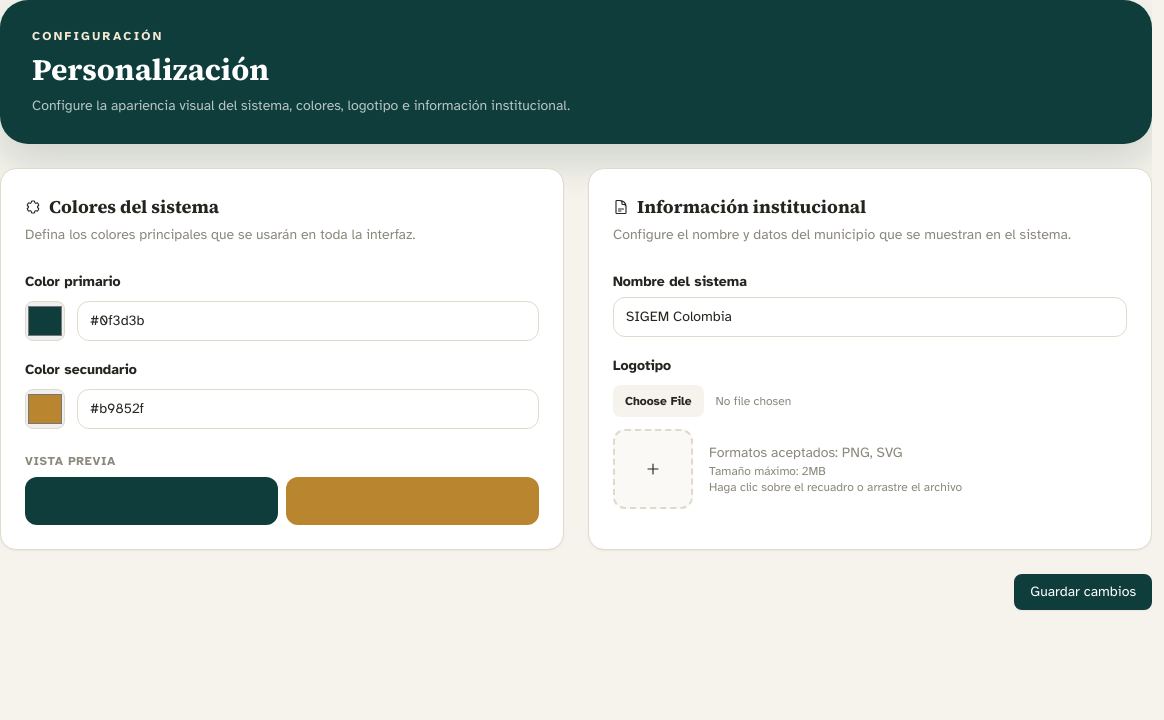
Scenario: PersonalizacionPage › muestra un mensaje de error cuando el guardado falla
Click the button "Guardar cambios" at [1083, 592], box [1014,574,1152,610]
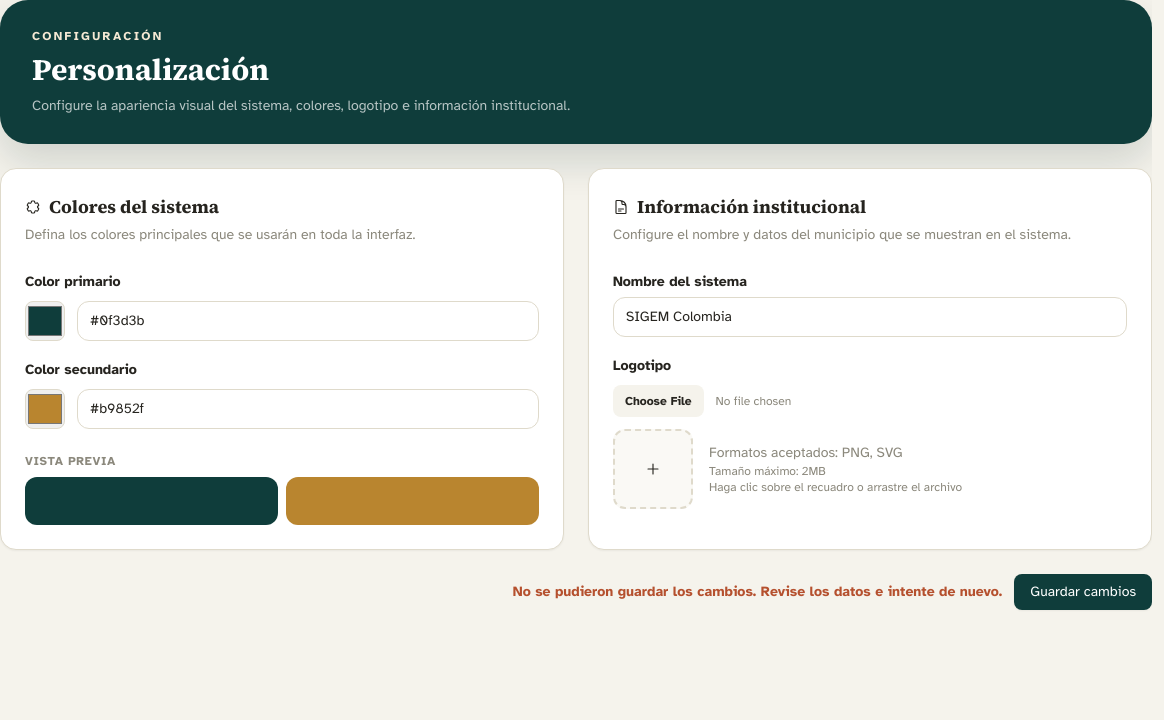
Check: the text "No se pudieron guardar los cambios. Revise los datos e intente de nuevo." is shown, box [513,582,1002,602]
